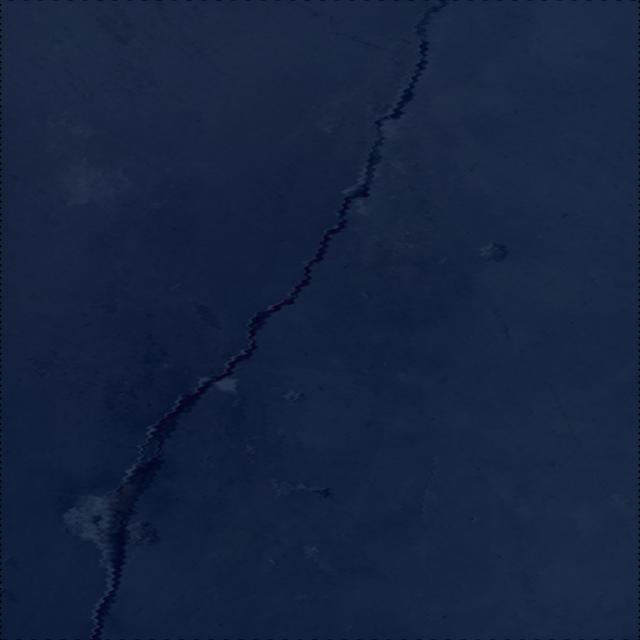crack: (90, 0, 452, 640), (282, 0, 392, 52), (188, 578, 220, 617), (154, 622, 169, 640)
